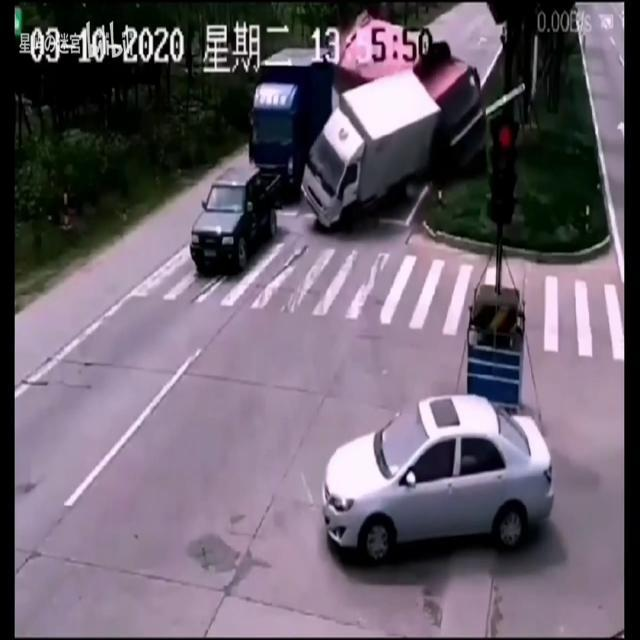accident: (250, 9, 488, 234)
